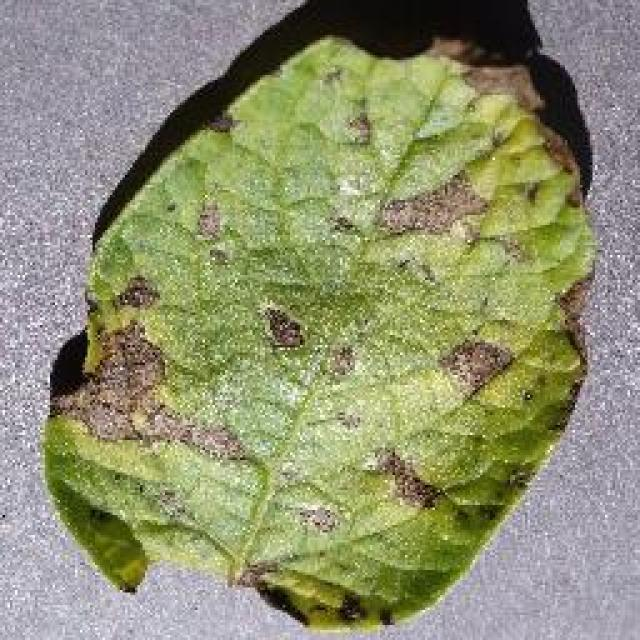early_blight: (38, 27, 600, 635)
